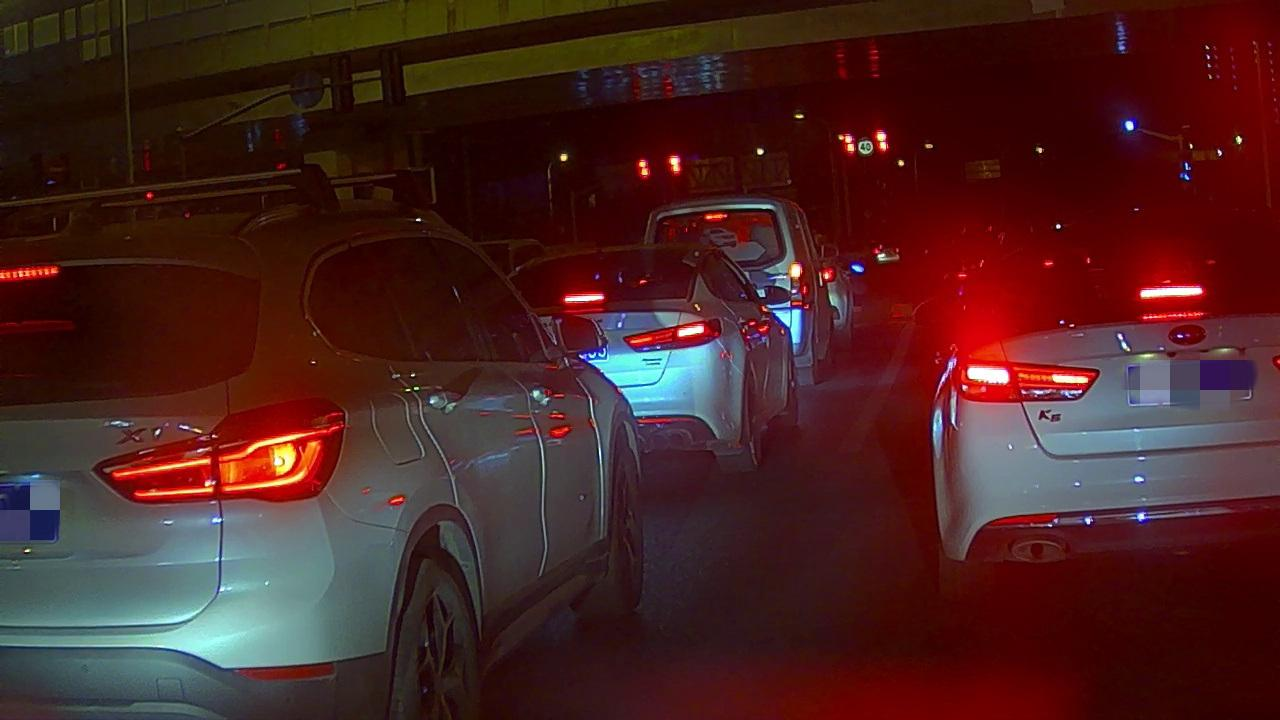traffic_light: (873, 127, 892, 155), (665, 152, 684, 179), (841, 131, 858, 157), (635, 158, 653, 180)
